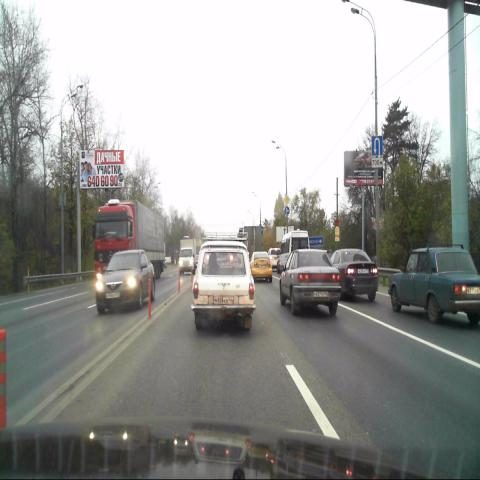6_3_1: (372, 136, 382, 156)
